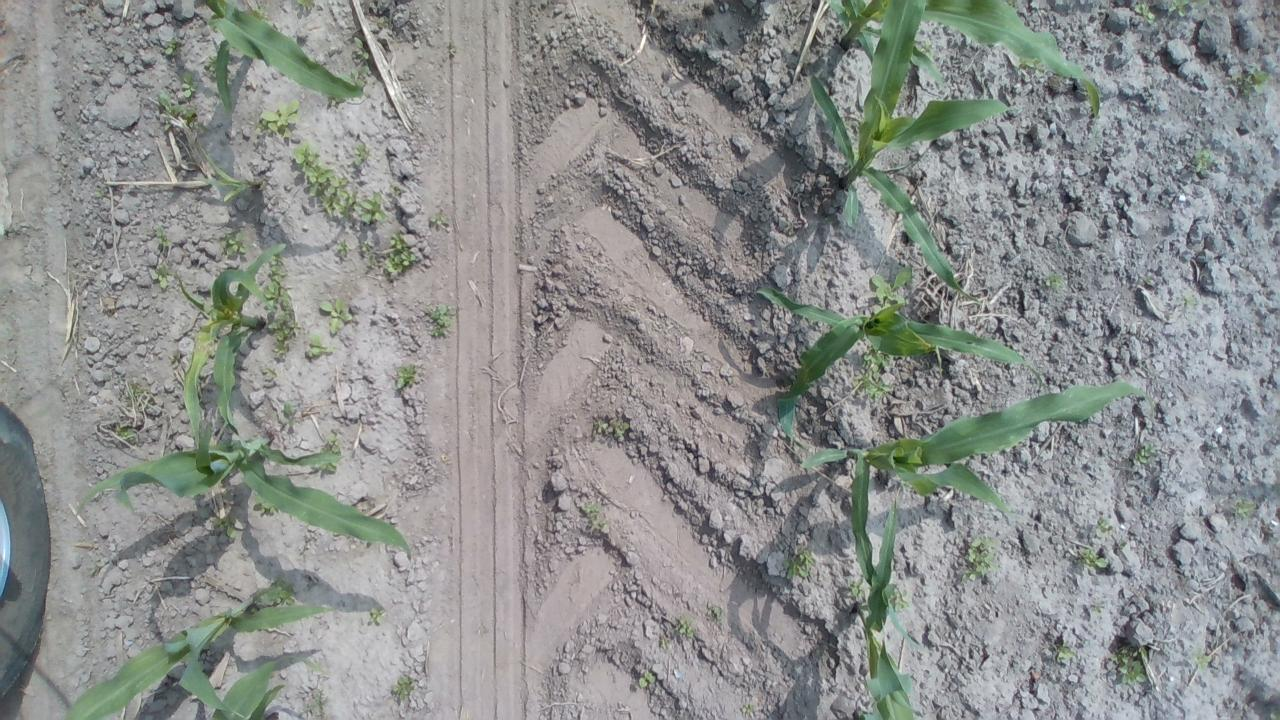Maize: (800, 378, 1154, 655), (752, 285, 1044, 452), (810, 75, 1022, 303), (75, 424, 412, 560), (826, 0, 1102, 143), (175, 242, 287, 448), (848, 452, 916, 720), (205, 0, 366, 112), (66, 581, 238, 684), (213, 652, 329, 720)
Weeds: (291, 135, 388, 224), (264, 281, 302, 358), (252, 96, 304, 140), (959, 531, 1001, 584), (382, 228, 420, 281), (318, 296, 362, 340), (1107, 642, 1149, 686), (870, 267, 915, 304), (849, 371, 896, 406), (780, 544, 816, 582), (1232, 64, 1268, 98), (423, 302, 454, 341), (316, 430, 341, 472), (125, 376, 154, 412), (157, 92, 181, 132), (1078, 544, 1112, 570), (393, 362, 419, 395), (590, 417, 630, 438), (301, 690, 329, 718), (218, 230, 248, 256), (304, 333, 334, 358), (859, 350, 894, 371), (391, 674, 416, 702), (270, 578, 296, 604), (212, 515, 238, 540), (1132, 441, 1158, 466), (180, 70, 200, 102), (152, 263, 174, 290), (1055, 639, 1079, 663), (1232, 496, 1258, 518), (352, 140, 372, 167), (1190, 647, 1212, 671), (674, 614, 696, 638), (1194, 148, 1214, 173), (892, 586, 911, 612), (1094, 516, 1116, 538), (706, 600, 726, 624), (580, 500, 608, 517), (848, 576, 868, 599), (637, 669, 658, 690), (114, 422, 136, 442), (282, 401, 298, 428), (353, 36, 371, 60), (270, 256, 287, 281), (1134, 3, 1156, 22), (156, 225, 173, 249), (1166, 0, 1190, 17), (367, 606, 388, 625), (1044, 272, 1066, 290), (352, 63, 369, 86), (429, 213, 454, 227), (254, 498, 275, 514), (1184, 294, 1202, 312), (584, 521, 609, 533), (164, 38, 180, 56), (338, 238, 350, 258), (204, 54, 217, 72), (92, 188, 110, 201), (920, 40, 934, 56), (1140, 272, 1156, 286), (358, 238, 373, 252), (1090, 601, 1106, 614), (168, 350, 185, 362), (740, 704, 756, 716), (185, 109, 196, 126), (366, 254, 377, 270), (1021, 59, 1038, 69), (660, 638, 674, 650), (253, 5, 267, 17), (266, 367, 278, 379), (298, 0, 314, 9), (1269, 706, 1280, 719), (1116, 539, 1128, 549), (378, 17, 388, 28), (388, 184, 398, 194)
